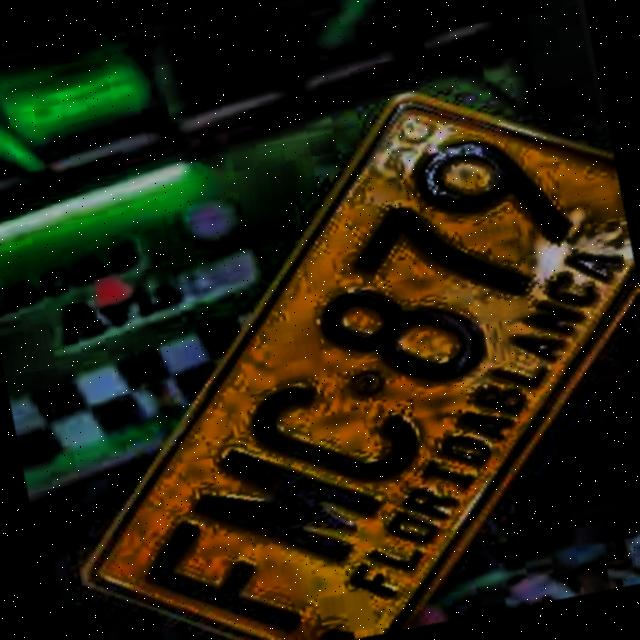7: (340, 195, 551, 320)
8: (305, 275, 513, 396)
9: (404, 123, 603, 266)
C: (236, 371, 441, 494)
F: (137, 514, 334, 640)
M: (184, 442, 398, 573)
